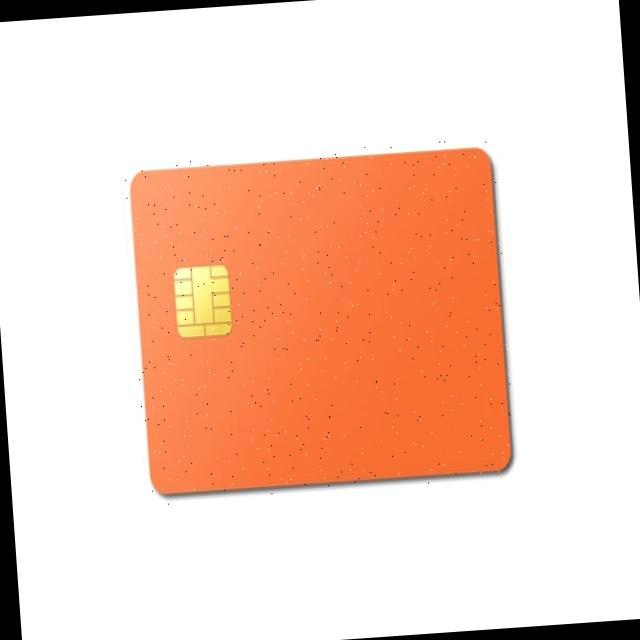payment_card: (129, 146, 513, 496)
